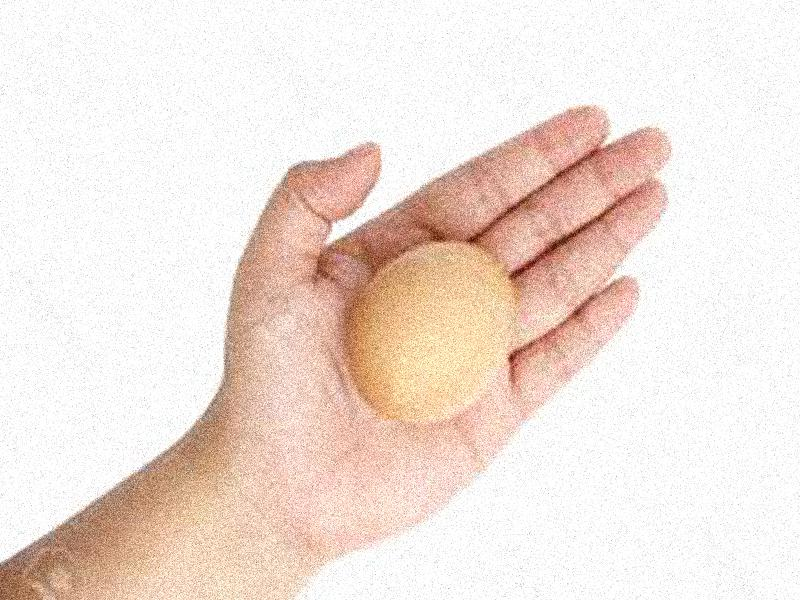Eggs: (345, 243, 511, 423)
